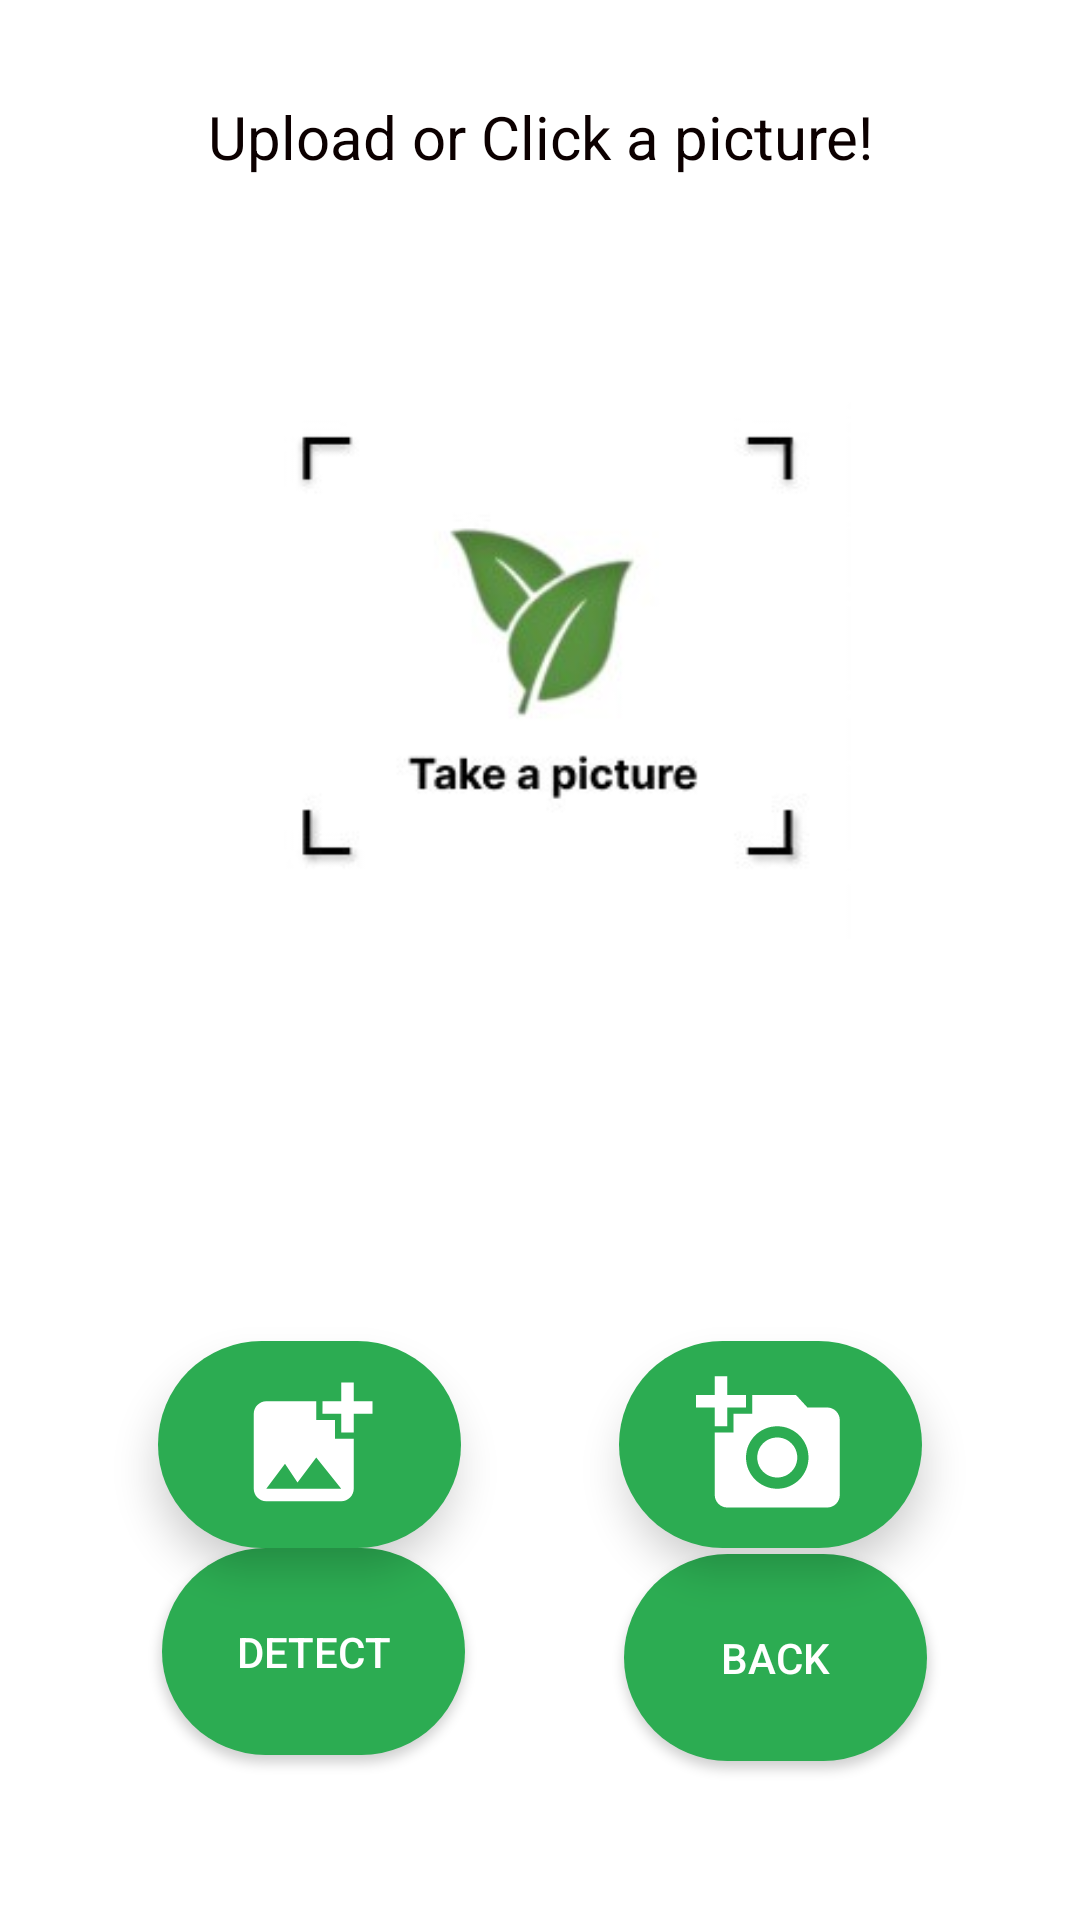

Screen size 1080px×1920px. Icon name, then its box in pixels as (x1, y1, x2, y2):
add photo: (619, 1341, 922, 1548)
add photo alternate: (158, 1341, 461, 1548)
